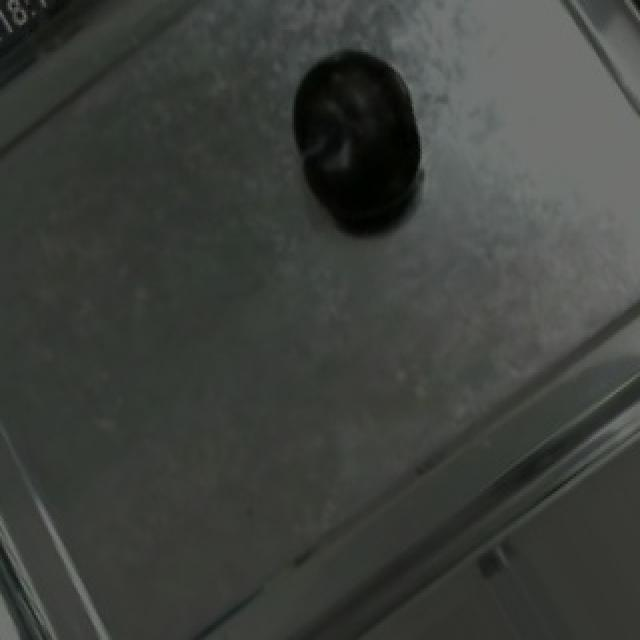Fruit: (268, 30, 446, 248)
